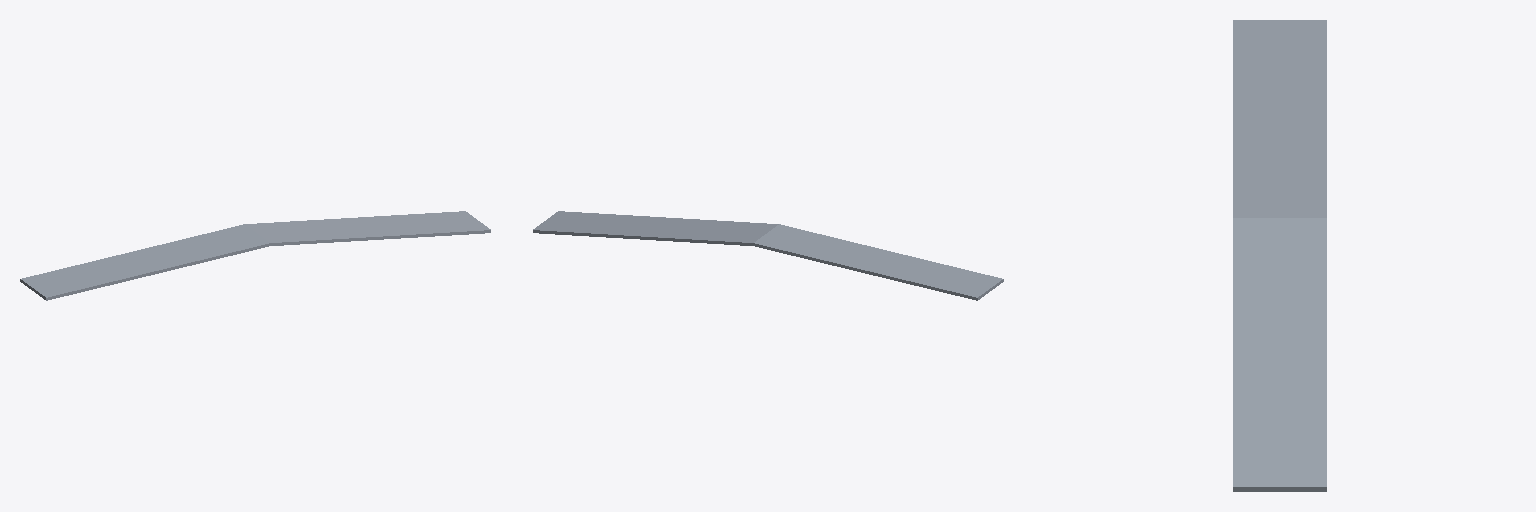
robot.urdf — env_2:
<?xml version="1.0" encoding="utf-8"?>
<robot name="env_2">
  <link name="base_link">
    <inertial>
      <origin xyz="1.0 0.1 -0.049912" rpy="0 0 0" />
      <mass value="1.0" />
      <inertia ixx="0.0033474167" ixy="0" ixz="0" iyy="0.3333474167" iyz="0" izz="0.3366666667" />
    </inertial>

    <visual>
      <origin xyz="0.5 0.1 -0.0065" rpy="0 0 0" />
      <geometry>
        <box size="1.0 0.2 0.013" />
      </geometry>
      <material name="ledge_gray">
        <color rgba="0.65 0.68 0.72 1" />
      </material>
    </visual>
    <collision>
      <origin xyz="0.5 0.1 -0.0065" rpy="0 0 0" />
      <geometry>
        <box size="1.0 0.2 0.013" />
      </geometry>
    </collision>

    <visual>
      <origin xyz="1.491204 0.1 -0.093324" rpy="0 0.174533 0" />
      <geometry>
        <box size="1.0 0.2 0.013" />
      </geometry>
      <material name="ledge_gray">
        <color rgba="0.65 0.68 0.72 1" />
      </material>
    </visual>
    <collision>
      <origin xyz="1.491204 0.1 -0.093324" rpy="0 0.174533 0" />
      <geometry>
        <box size="1.0 0.2 0.013" />
      </geometry>
    </collision>
  </link>
</robot>

--- Render facts (derived) ---
The picture shows the robot from 3 angles, left to right: view 1: azimuth 30°, elevation 25°; view 2: azimuth 150°, elevation 25°; view 3: azimuth 270°, elevation 25°; orthographic projection.
Model env_2 with 1 links and 0 joints (none), rooted at base_link, posed every joint at zero.
Links seen in each view (by area): view 1: base_link; view 2: base_link; view 3: base_link.
Link boxes in pixels (left/top/right/bottom): base_link: left=20, top=211, right=490, bottom=300; base_link: left=533, top=211, right=1003, bottom=300; base_link: left=1233, top=20, right=1326, bottom=491.
Size in the robot's own frame: 1.98 by 0.2 by 0.1865 metres.
Geometry: primitives only (box / cylinder / sphere), no mesh files.
